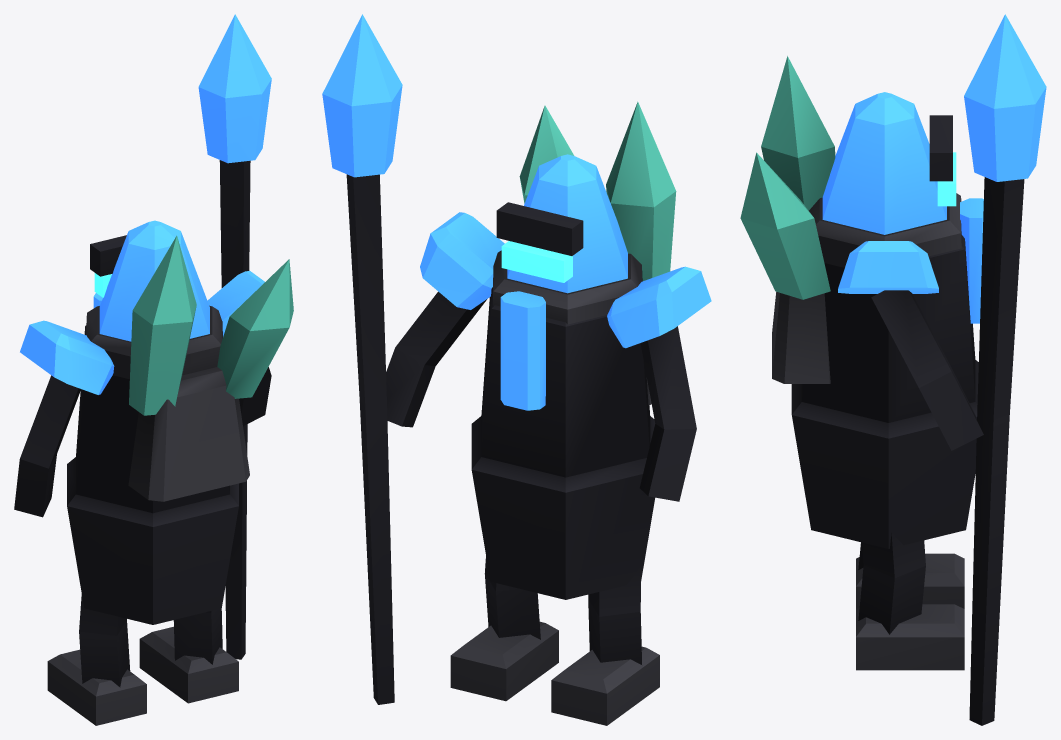
3 views of the same model, side by side, from view 1: azimuth 30°, elevation 25°; view 2: azimuth 150°, elevation 25°; view 3: azimuth 270°, elevation 25° (orthographic). The views are drawn at different scales.
Visible parts, largest first — view 1: body, swingR, swingL; view 2: body, swingR, swingL; view 3: body, swingL, swingR.
Part boxes in pixels (bbox=[...]): body: bbox=[14, 14, 293, 659]; swingR: bbox=[47, 594, 146, 725]; swingL: bbox=[139, 608, 238, 703]; body: bbox=[322, 14, 711, 704]; swingR: bbox=[551, 567, 659, 725]; swingL: bbox=[450, 556, 558, 701]; body: bbox=[740, 14, 1046, 725]; swingL: bbox=[856, 533, 964, 670]; swingR: bbox=[856, 542, 964, 608].
Size of the model in its own units: 0.4886 by 1.01 by 0.3937.
